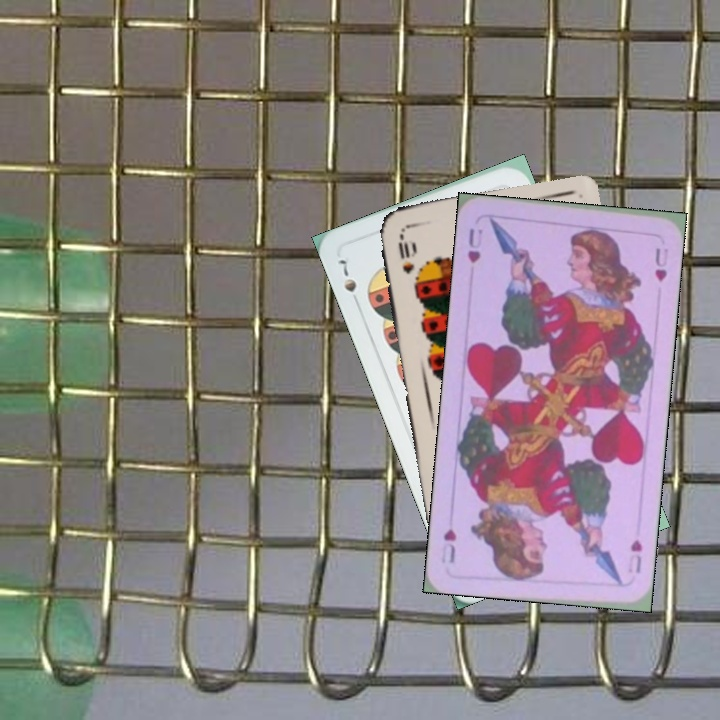HU: (463, 224, 485, 266), (624, 535, 645, 576)
S10: (394, 230, 417, 277)
S7: (333, 255, 363, 309)
